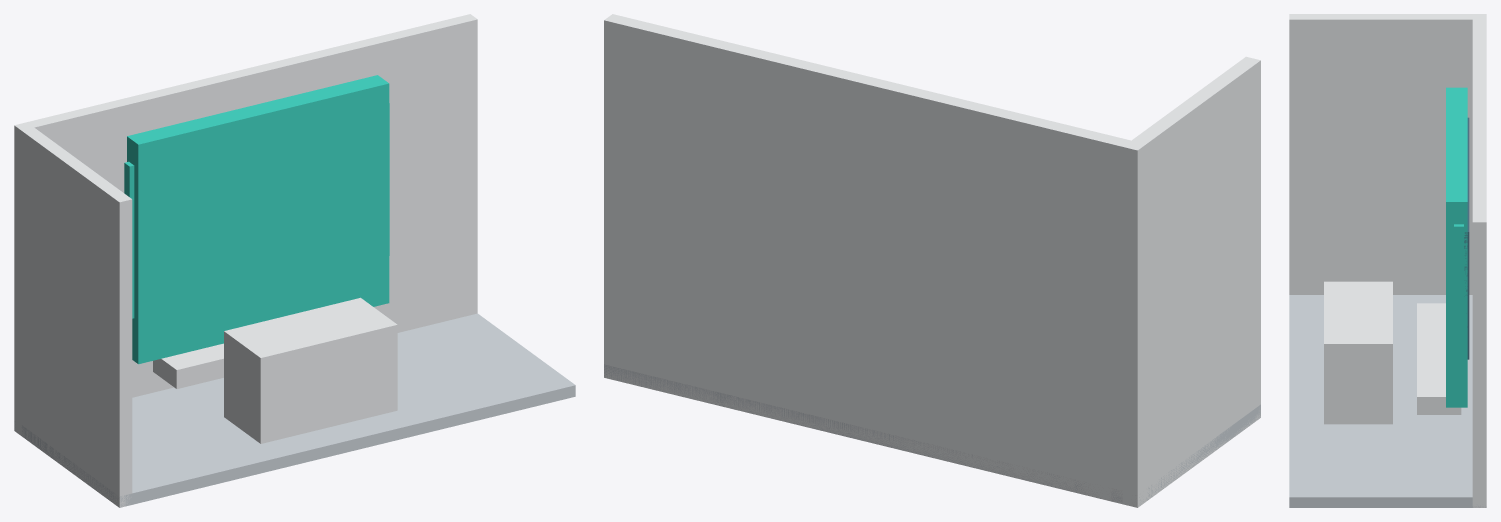
3 views of the same model, side by side, from view 1: azimuth 30°, elevation 25°; view 2: azimuth 150°, elevation 25°; view 3: azimuth 270°, elevation 25° (orthographic). The views are drawn at different scales.
Parts seen in each view (by area): view 1: Exhibition Booth Concept; view 2: Exhibition Booth Concept; view 3: Exhibition Booth Concept.
Boxes of the visible parts, left/top/right/bottom form: Exhibition Booth Concept: left=14, top=14, right=575, bottom=507; Exhibition Booth Concept: left=604, top=14, right=1260, bottom=507; Exhibition Booth Concept: left=1289, top=14, right=1486, bottom=507.
Size of the model in its own units: 5 by 3.2 by 2.
